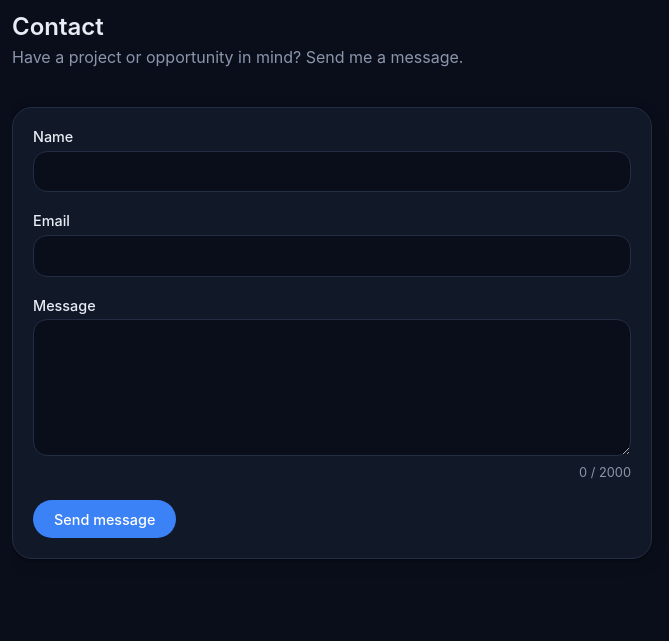
Test case: Contact form › shows validation errors when submitted empty
Click the button "Send message" at [105, 519], box [33, 500, 176, 538]
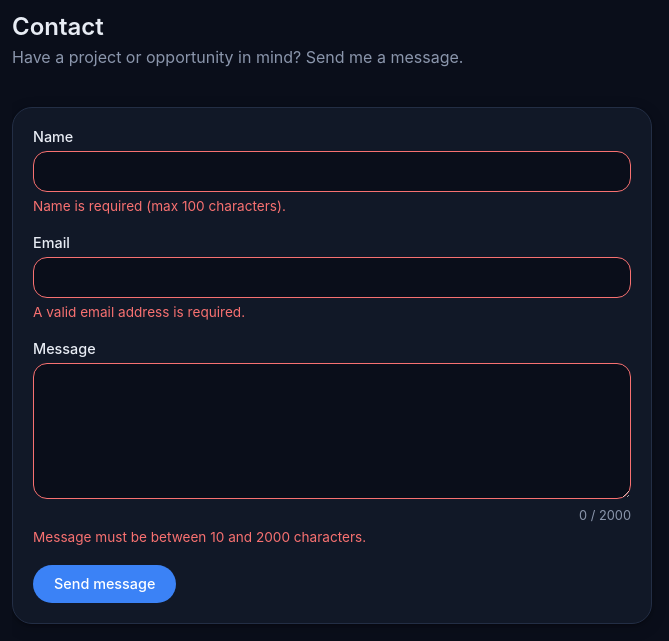
Expected: the text "Name is required (max 100 characters)." is shown, [33, 198, 286, 214]
Expected: the text "A valid email address is required." is shown, [33, 304, 245, 320]
Expected: the text "Message must be between 10 and 2000 characters." is shown, [33, 529, 366, 545]
